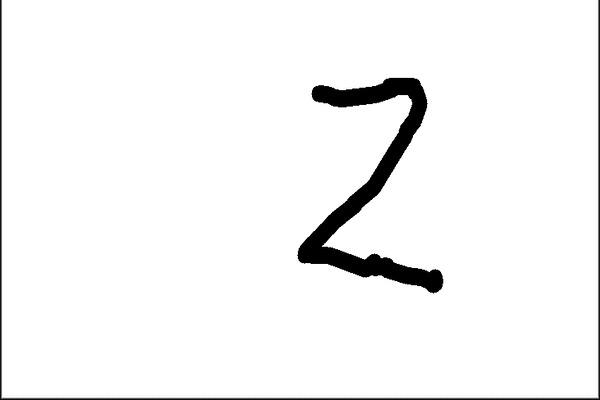Z: (290, 68, 453, 298)
